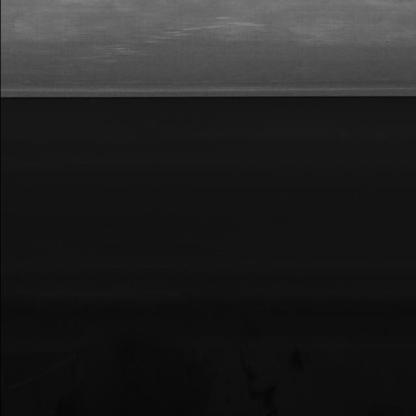silk_spot: (51, 11, 305, 66)
